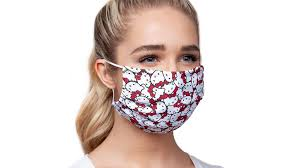with-mask: (95, 4, 209, 139)
